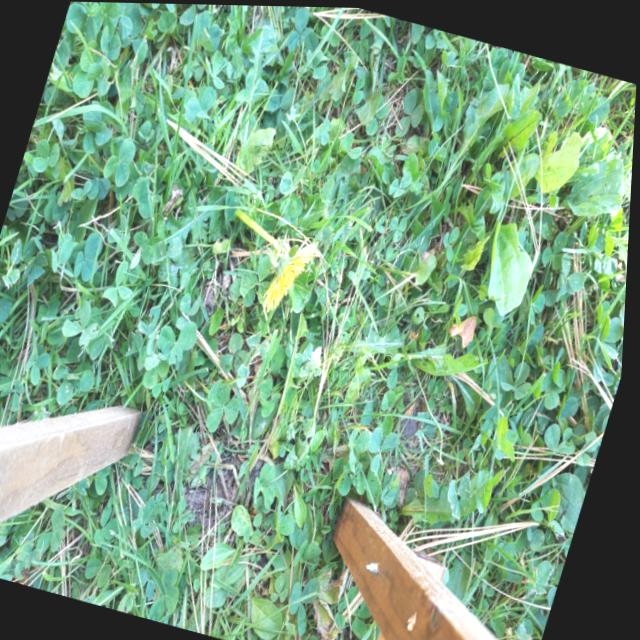base: (224, 192, 257, 230)
